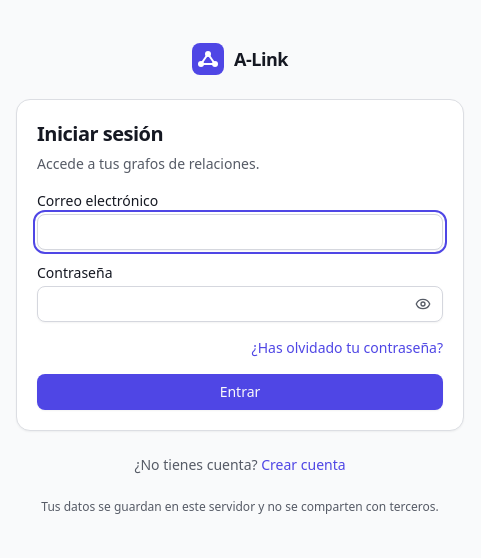
Scenario: LoginPage › 429: informa del tiempo de espera
The width and height of the screenshot is (481, 558).
Type "ana@example.test" into the field labelled "Correo electrónico" at (240, 232), box [37, 214, 443, 250]
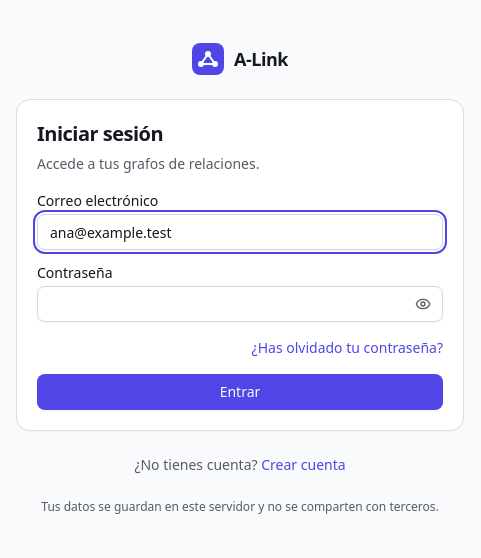
Type "Una-Frase-Larga-2026!" into the password field labelled "Contraseña" at (240, 304), box [37, 286, 443, 322]
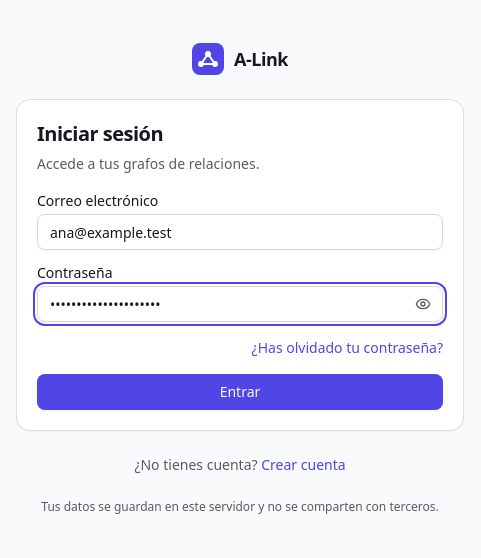
Click the button "Entrar" at (240, 392), box [37, 374, 443, 410]
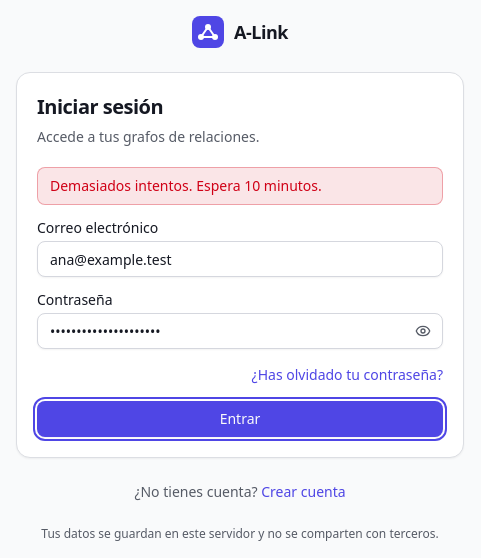
Expected: the text "Demasiados intentos. Espera 10 minutos." is shown, [37, 167, 443, 205]
